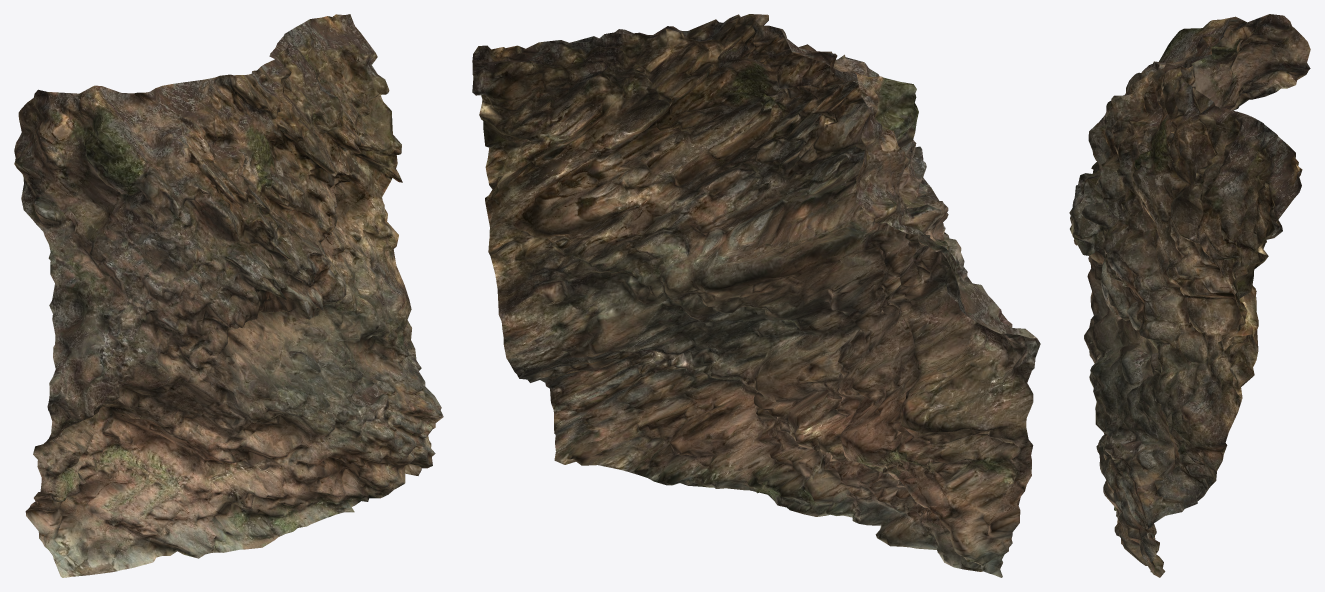
Rendered from mountainside.glb.
3 renders of one model, left to right at view 1: azimuth 30°, elevation 25°; view 2: azimuth 150°, elevation 25°; view 3: azimuth 270°, elevation 25°, orthographic. The views are drawn at different scales.
Visible parts, largest first — view 1: mountainside; view 2: mountainside; view 3: mountainside.
Boxes of the visible parts, <box> form: mountainside: <box>14,14,443,577</box>; mountainside: <box>472,14,1040,577</box>; mountainside: <box>1069,14,1310,577</box>.
Bounding box in the file's own units: 10.21 × 10.52 × 5.25.
Materials: 1 (1 with a texture image).
